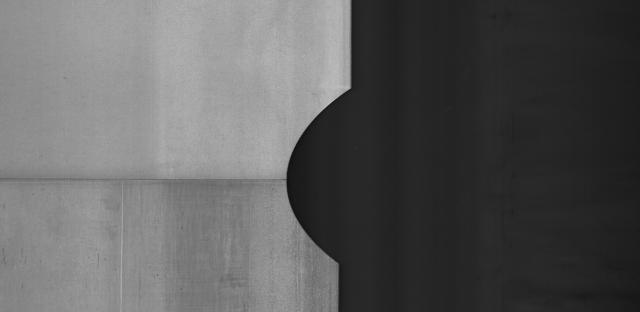crescent_gap: (266, 83, 384, 276)
welding_line: (3, 162, 299, 194)
